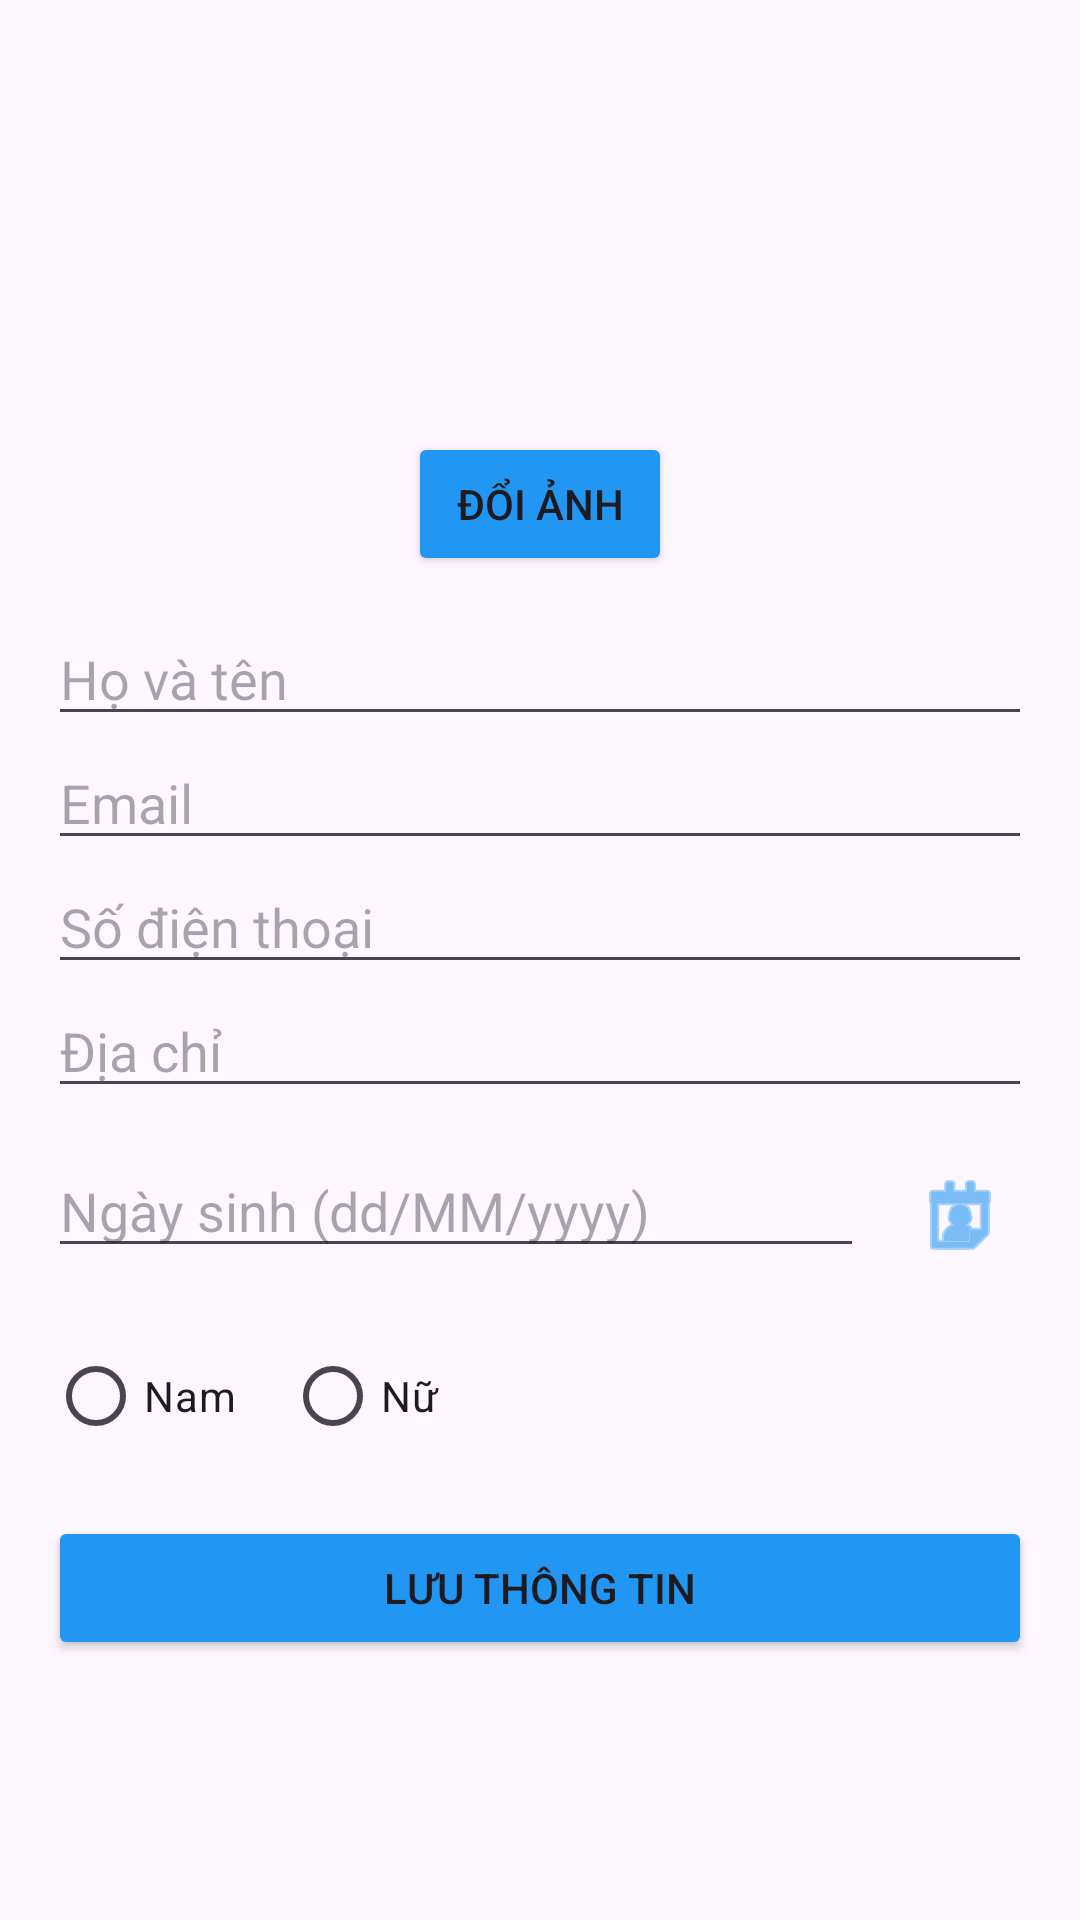

Icons on this 1080 × 1920 Android screen, each with its box as (x1=x1, y1=y1, x2=x2, y2=y2):
Chọn ngày: (x1=929, y1=1180, x2=991, y2=1250)
